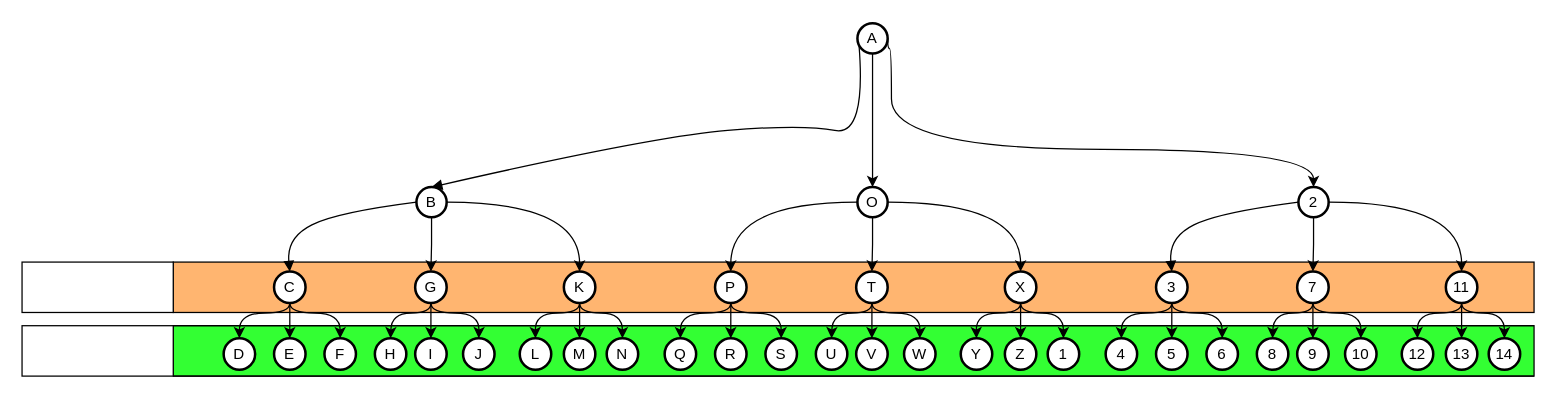
Image size: 1557x399. Some labels were removed from this diagram. The box of each missing label's shape, as (x1, y1, x2, y2) in pixels:
End Condition Met: (21, 324, 173, 376)
Points by which EndPoint could be found: (21, 261, 173, 312)
